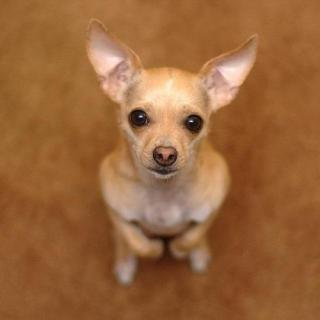dog: (85, 18, 262, 190)
nose: (154, 140, 176, 170)
